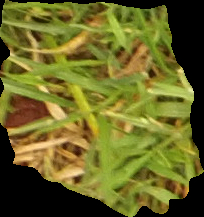grass: (1, 1, 203, 216)
